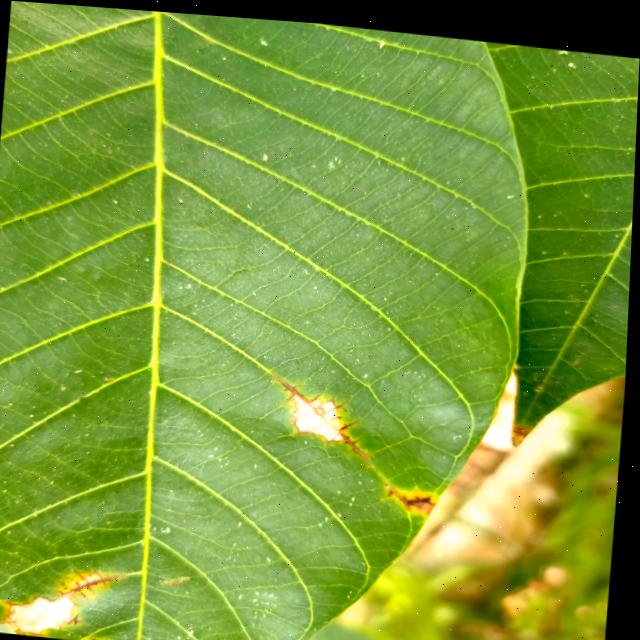Corynespora: (272, 370, 379, 453), (60, 564, 126, 603), (386, 476, 443, 506)
Leaf-Blight: (11, 591, 75, 635), (293, 389, 348, 437), (98, 636, 116, 640)
